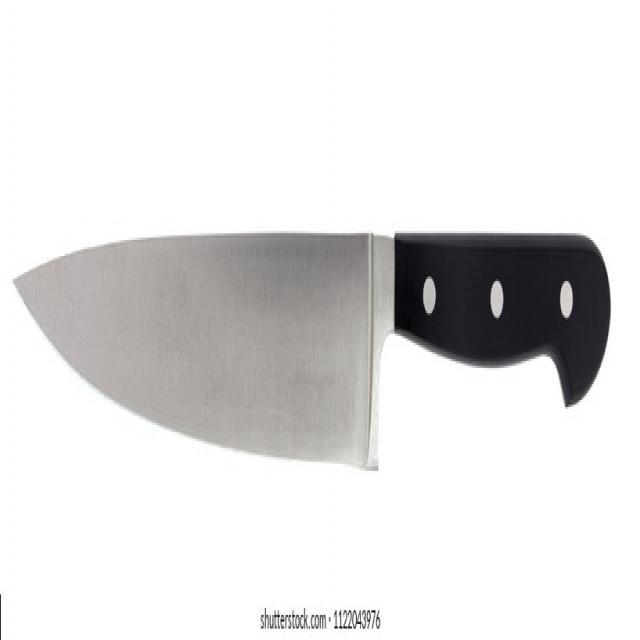knife: (10, 203, 615, 469)
